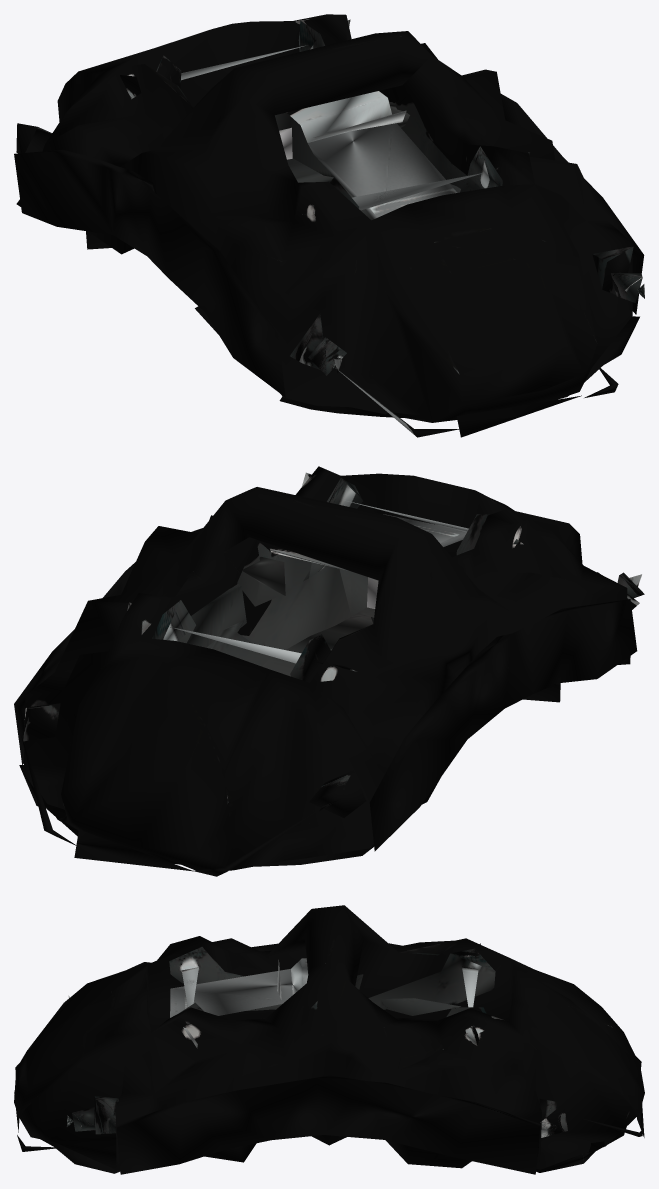
The model's file is brake_caliper_black.obj.
3 views of the same model, one above another, from view 1: azimuth 30°, elevation 25°; view 2: azimuth 150°, elevation 25°; view 3: azimuth 270°, elevation 25° (orthographic). The views are drawn at different scales.
Visible parts, largest first — view 1: part; view 2: part; view 3: part.
Boxes of the visible parts, box(x1,y1,x2,y2) form: part: box(14, 14, 644, 437); part: box(14, 466, 644, 876); part: box(14, 905, 644, 1174).
Bounding box in the file's own units: 0.1512 × 0.0883 × 0.2787.
